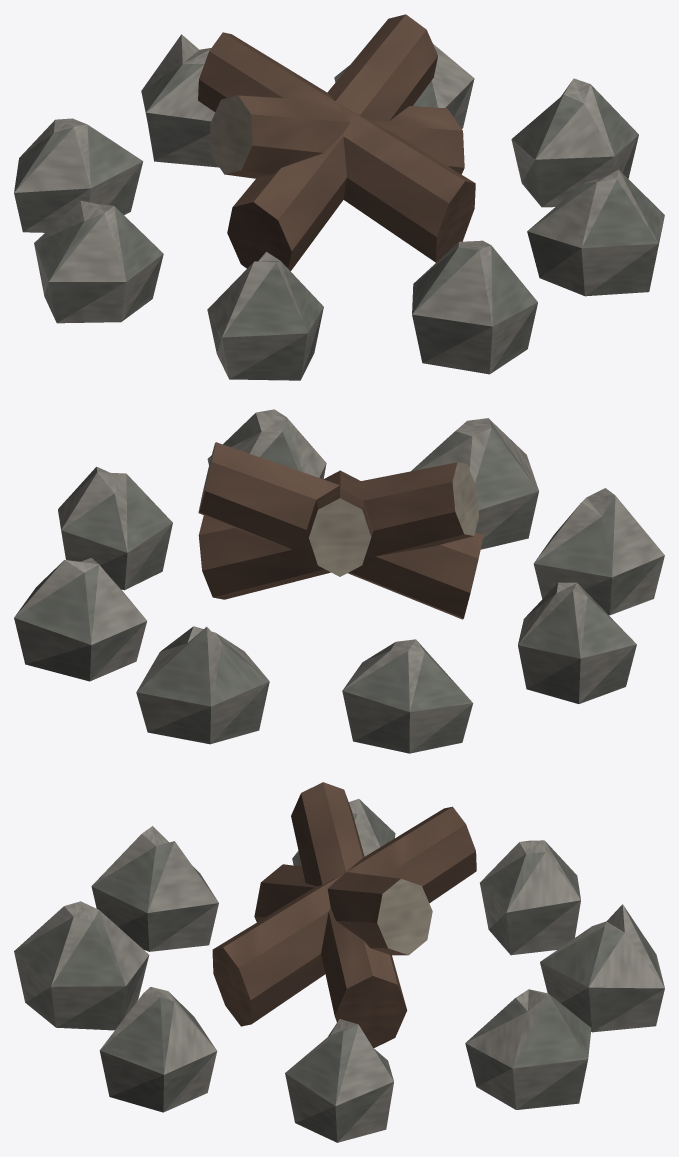
The model's file is campfire_pit.fbx.
The picture shows the model from 3 angles, top to bottom: view 1: azimuth 30°, elevation 25°; view 2: azimuth 150°, elevation 25°; view 3: azimuth 270°, elevation 25°; orthographic projection. The views are drawn at different scales.
Parts seen in each view (by area): view 1: campfire_pit; view 2: campfire_pit; view 3: campfire_pit.
Part boxes in pixels (<box>): campfire_pit: <box>14,14,664,380</box>; campfire_pit: <box>14,409,664,753</box>; campfire_pit: <box>14,782,664,1142</box>.
Bounding box in the file's own units: 200 × 60 × 200.
Materials: 1 (1 with a texture image).
